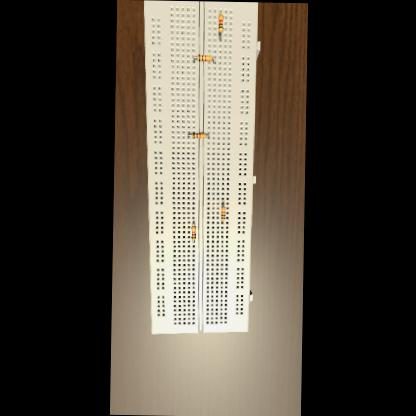breadboard: (137, 0, 260, 334)
resistor: (218, 12, 223, 31), (196, 54, 211, 60), (190, 132, 204, 138), (221, 204, 225, 219), (191, 225, 194, 238)
wire: (218, 30, 220, 40), (193, 56, 196, 61), (212, 56, 214, 62), (188, 133, 191, 136), (206, 134, 208, 138), (221, 219, 223, 221), (221, 202, 223, 204), (192, 221, 193, 224), (192, 238, 193, 240)
